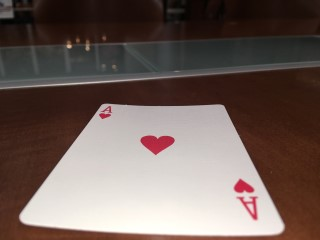AceOfHearts: (19, 104, 286, 235)
